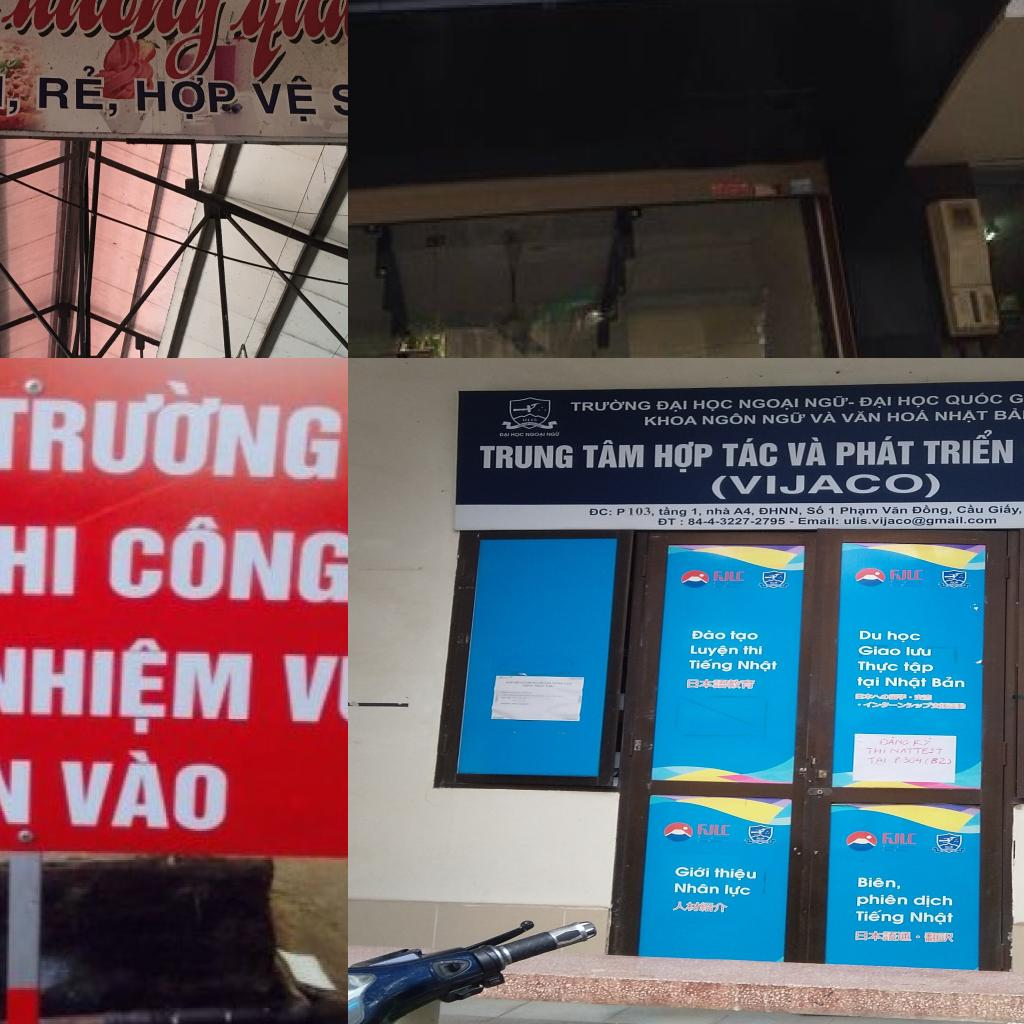text: (0, 369, 344, 485), (0, 631, 254, 739), (107, 513, 348, 607), (0, 0, 224, 81), (229, 0, 348, 81), (709, 470, 944, 501), (0, 521, 79, 602), (281, 652, 348, 746), (132, 70, 240, 123), (34, 61, 119, 122), (250, 69, 322, 129), (922, 428, 1016, 466), (830, 435, 917, 468), (476, 445, 576, 470), (652, 441, 713, 473), (580, 440, 646, 469), (720, 436, 779, 468), (842, 516, 999, 526), (786, 435, 832, 468), (568, 399, 652, 413), (687, 517, 787, 527), (946, 391, 1004, 407), (933, 409, 990, 424), (855, 909, 905, 926), (700, 412, 758, 426), (736, 398, 800, 410), (688, 658, 734, 674), (856, 875, 902, 891), (712, 866, 757, 882), (855, 894, 910, 907), (689, 644, 740, 658), (673, 881, 720, 896), (910, 911, 956, 926), (643, 415, 699, 427), (886, 409, 932, 423), (736, 658, 778, 673), (695, 821, 734, 837), (896, 394, 940, 408), (856, 660, 900, 674), (884, 676, 928, 690), (803, 395, 850, 408), (912, 894, 955, 908), (880, 831, 920, 846), (692, 398, 733, 412), (886, 629, 924, 644), (902, 660, 936, 676), (858, 644, 903, 656), (841, 410, 882, 423), (762, 412, 806, 424), (910, 503, 954, 515), (674, 865, 711, 879), (758, 505, 803, 516), (859, 395, 893, 409), (932, 676, 966, 690), (654, 399, 690, 412), (993, 407, 1024, 422), (889, 747, 946, 755), (723, 883, 752, 898), (987, 504, 1023, 516), (712, 570, 748, 582), (890, 568, 926, 580), (691, 628, 727, 640), (840, 505, 879, 516), (730, 629, 760, 643), (810, 411, 839, 424), (628, 505, 657, 518), (657, 506, 688, 518), (855, 676, 882, 689), (955, 503, 984, 515), (797, 517, 840, 525), (878, 736, 912, 746), (858, 629, 884, 642), (905, 645, 933, 657), (923, 756, 953, 767), (880, 504, 909, 514), (657, 517, 686, 527), (742, 644, 764, 656), (588, 507, 613, 517), (731, 506, 755, 516), (805, 504, 825, 516), (866, 756, 889, 766), (912, 736, 934, 746), (706, 506, 730, 515), (1009, 391, 1024, 405), (904, 756, 924, 765), (865, 747, 887, 755), (689, 506, 703, 516), (614, 507, 626, 517), (892, 755, 904, 765), (526, 432, 546, 437), (546, 431, 561, 437), (826, 506, 836, 515), (510, 432, 524, 438), (522, 418, 538, 422), (499, 432, 511, 437), (914, 934, 921, 939), (788, 519, 796, 523), (848, 401, 855, 405), (855, 703, 862, 706), (908, 696, 913, 699)
